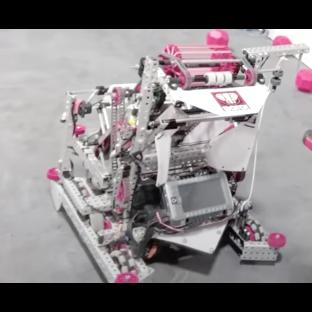Robot: (47, 47, 287, 284)
